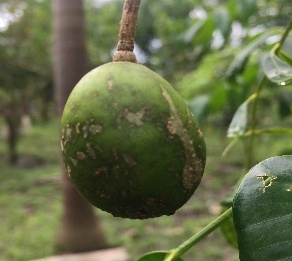Coc: (41, 36, 210, 229)
